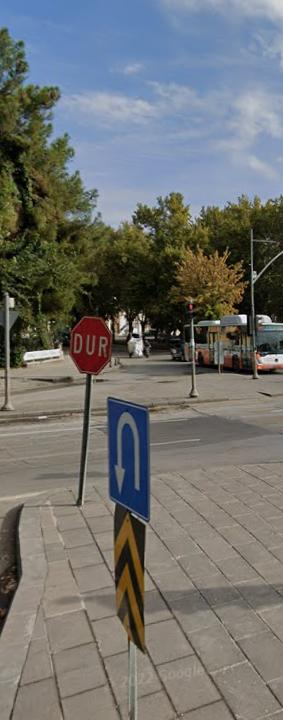stop: (69, 315, 111, 374)
